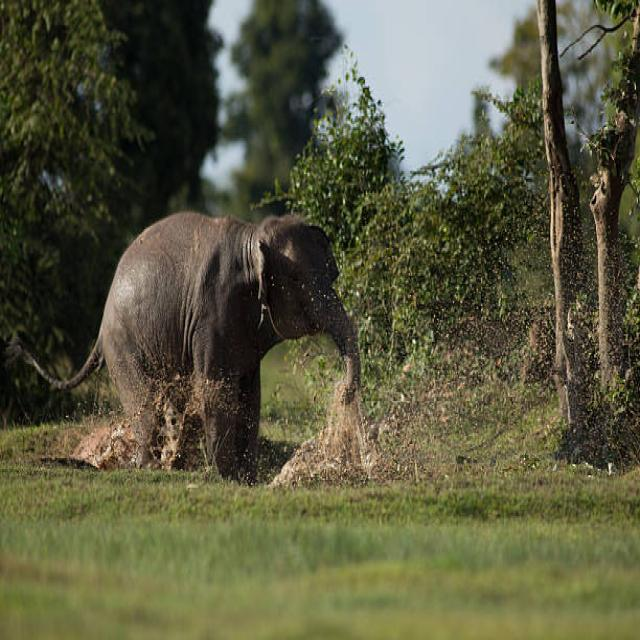Elephant: (49, 187, 368, 494)
